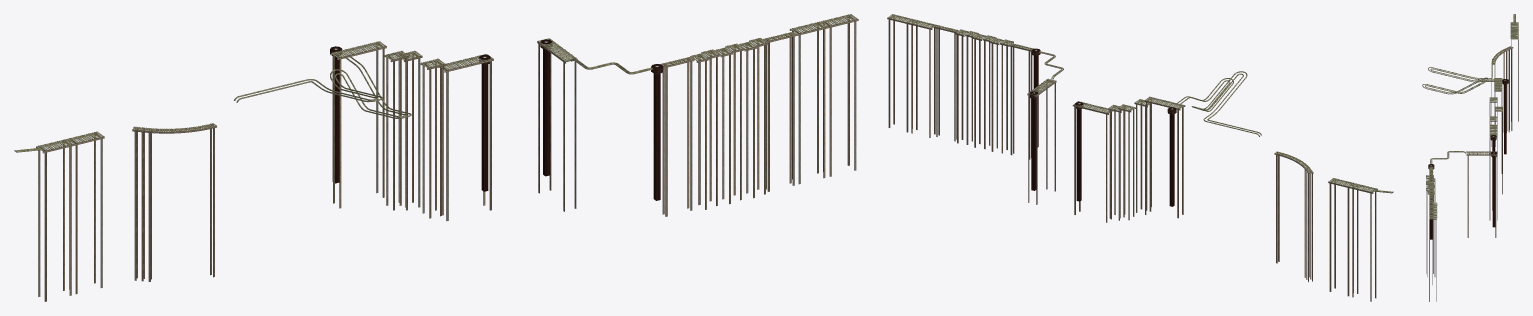
File: not 7.fbx
3 views of the same model, side by side, from view 1: azimuth 30°, elevation 25°; view 2: azimuth 150°, elevation 25°; view 3: azimuth 270°, elevation 25° (orthographic). The views are drawn at different scales.
Visible parts, largest first — view 1: ramp.001, ramp, Ramp_016, ramp_018, ramp_004.001, ramp_013, ramp_015, ramp.003, ramp_004, ramp.002, pipe_001, ramp_014 (+10 smaller); view 2: ramp, ramp.001, Ramp_016, ramp_018, ramp.003, ramp_004.001, ramp_014, ramp_015, pipe_001, ramp_004, ramp_013, ramp.002 (+10 smaller); view 3: Ramp_016, pipe_001, ramp.003, ramp.002, ramp.001, ramp, hakkero__2.002, ramp_018, hakkero_001, Ramp_001.014, Ramp_001.001, hakkero__2.001 (+5 smaller).
Boxes of the visible parts, <box> form: ramp.001: <box>36,131,104,301</box>; ramp: <box>789,14,858,184</box>; Ramp_016: <box>132,123,216,281</box>; ramp_018: <box>330,41,386,208</box>; ramp_004.001: <box>661,56,694,216</box>; ramp_013: <box>420,58,445,218</box>; ramp_015: <box>384,50,409,210</box>; ramp.003: <box>537,38,577,211</box>; ramp_004: <box>763,31,796,191</box>; ramp.002: <box>438,54,493,220</box>; pipe_001: <box>234,55,411,118</box>; ramp_014: <box>397,50,422,210</box>; ramp: <box>887,14,936,137</box>; ramp.001: <box>1328,178,1377,301</box>; Ramp_016: <box>1274,151,1313,282</box>; ramp_018: <box>1144,96,1185,218</box>; ramp.003: <box>1027,78,1056,204</box>; ramp_004.001: <box>1009,43,1033,159</box>; ramp_014: <box>1117,104,1135,220</box>; ramp_015: <box>1134,99,1151,214</box>; pipe_001: <box>1177,71,1261,136</box>; ramp_004: <box>934,25,958,141</box>; ramp_013: <box>1108,104,1124,220</box>; ramp.002: <box>1073,101,1113,222</box>; Ramp_016: <box>1491,46,1513,146</box>; pipe_001: <box>1422,59,1495,94</box>; ramp.003: <box>1466,151,1497,237</box>; ramp.002: <box>1489,124,1497,220</box>; ramp.001: <box>1510,22,1518,121</box>; ramp: <box>1429,202,1437,301</box>; hakkero__2.002: <box>1491,151,1497,227</box>; ramp_018: <box>1494,78,1502,173</box>; hakkero_001: <box>1502,79,1508,154</box>; Ramp_001.014: <box>1427,191,1435,276</box>; Ramp_001.001: <box>1426,188,1433,273</box>; hakkero__2.001: <box>1428,164,1434,239</box>.
Bounding box in the file's own units: 12369 × 2997 × 2444.
